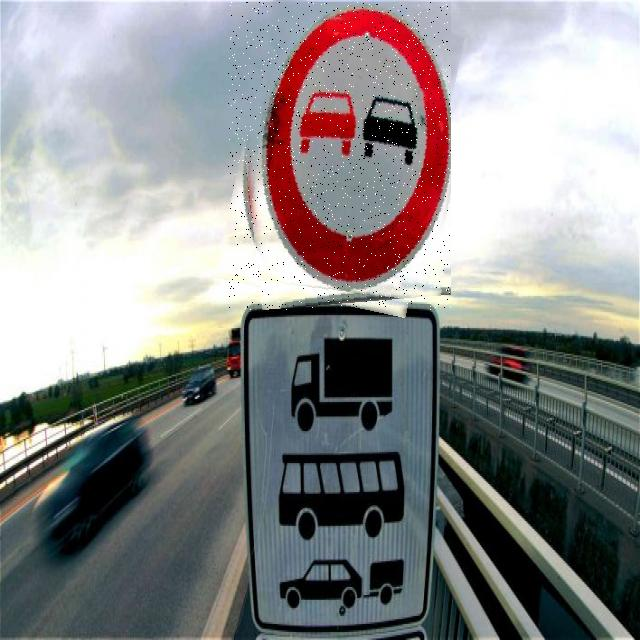no overtaking: (228, 2, 451, 310)
